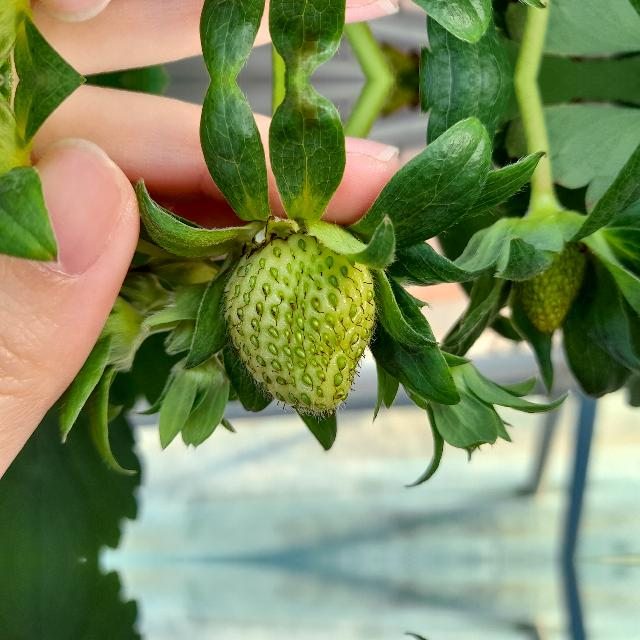Health_25: (223, 232, 375, 414)
